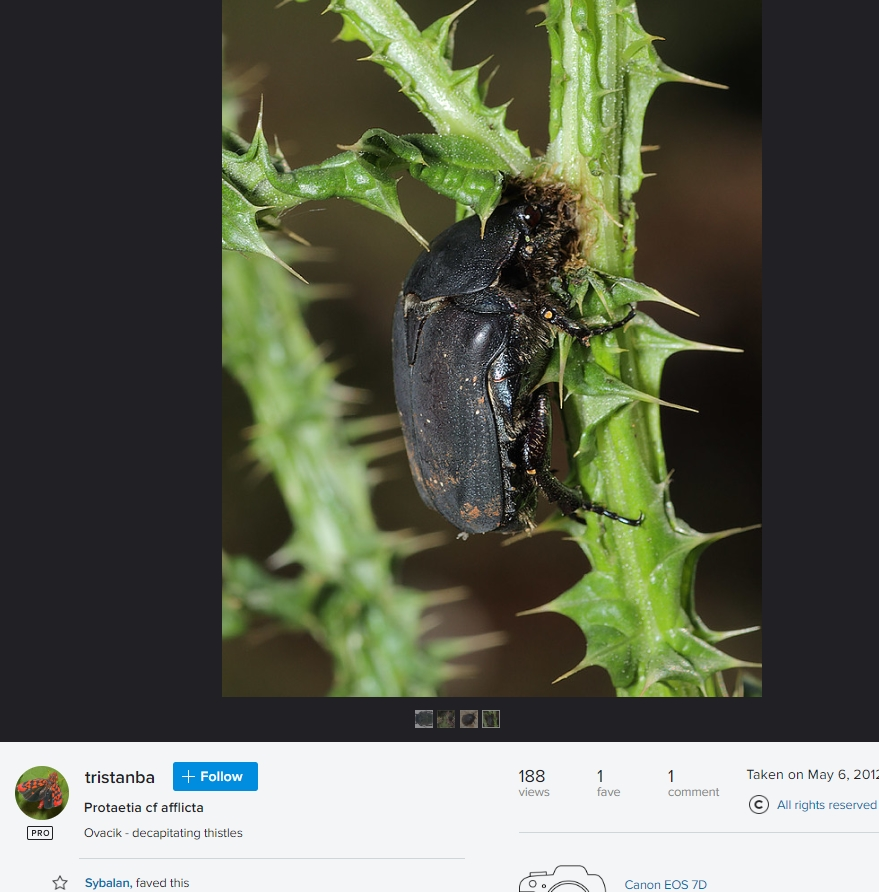Protaetia_afflicta: (392, 197, 654, 553)
